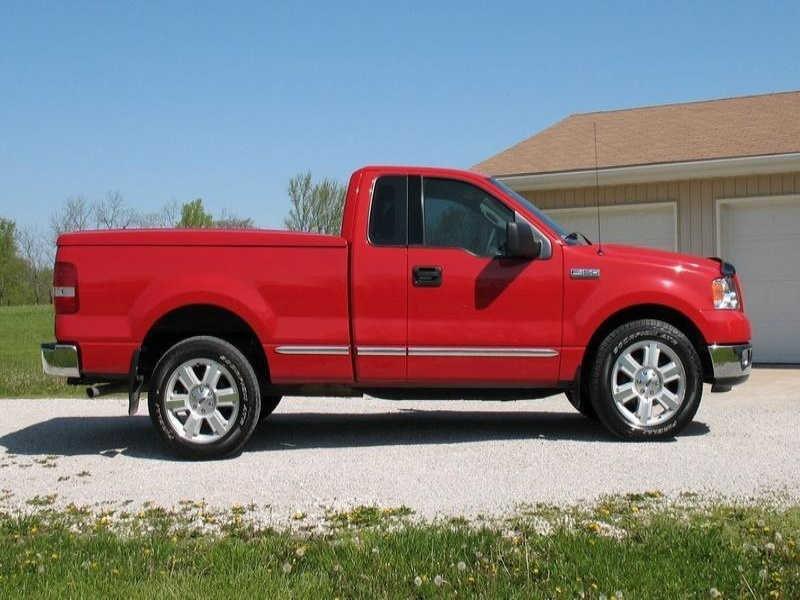normalcar: (40, 151, 764, 441)
